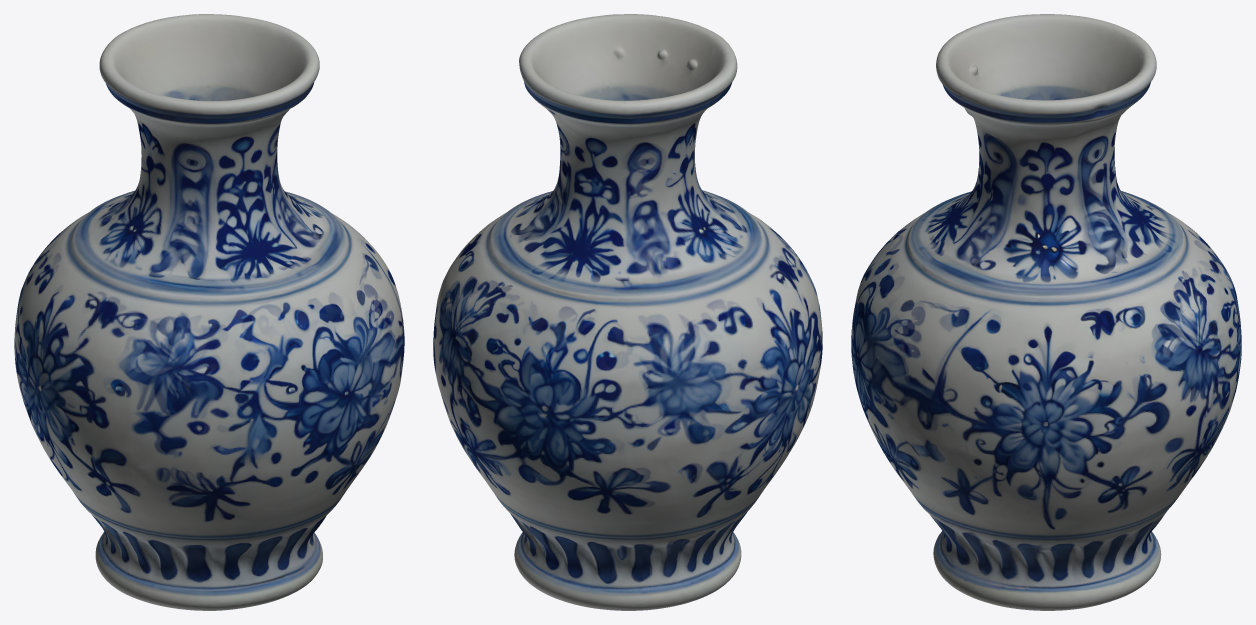
Rendered from prop-vase-blue.glb.
The picture shows the model from 3 angles, left to right: view 1: azimuth 30°, elevation 25°; view 2: azimuth 150°, elevation 25°; view 3: azimuth 270°, elevation 25°; orthographic projection.
Visible parts, largest first — view 1: tripo_node_130541a8-1a1b-4073-a36a-85e5b153352e; view 2: tripo_node_130541a8-1a1b-4073-a36a-85e5b153352e; view 3: tripo_node_130541a8-1a1b-4073-a36a-85e5b153352e.
Boxes of the visible parts, x1=… form: tripo_node_130541a8-1a1b-4073-a36a-85e5b153352e: x1=14, y1=14, x2=404, y2=610; tripo_node_130541a8-1a1b-4073-a36a-85e5b153352e: x1=433, y1=14, x2=822, y2=610; tripo_node_130541a8-1a1b-4073-a36a-85e5b153352e: x1=851, y1=14, x2=1241, y2=610.
Size of the model in its own units: 0.8288 by 1.2 by 0.8273.
1 material, 1 textured.
